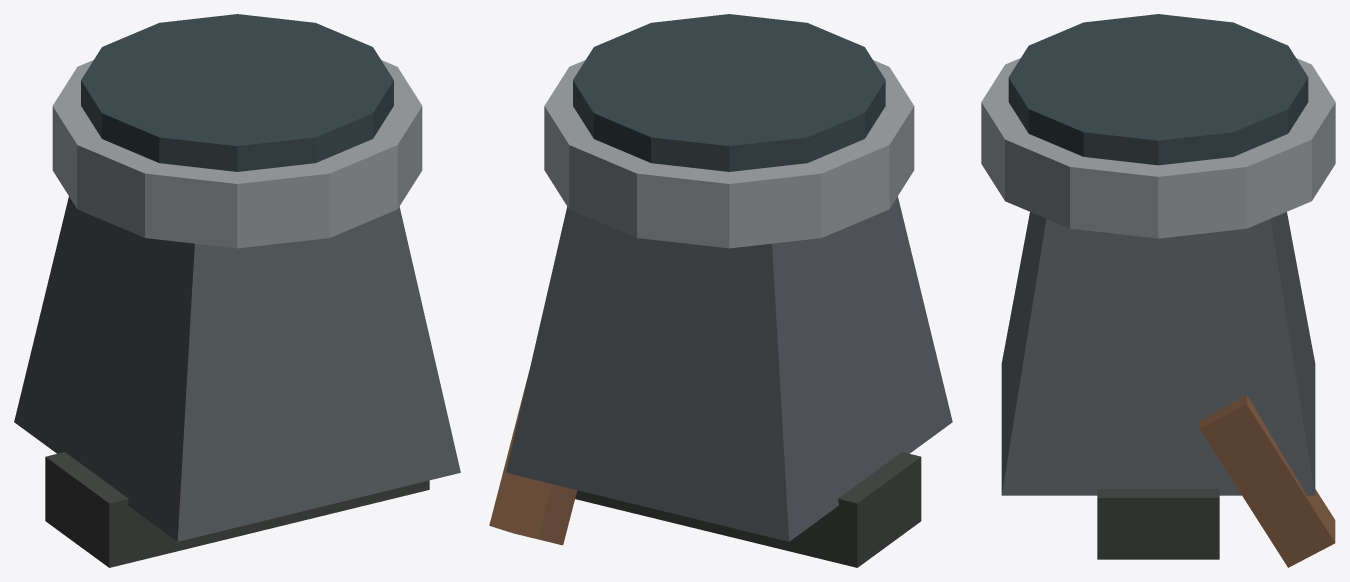
Rendered from item_good_optics.glb.
The picture shows the model from 3 angles, left to right: view 1: azimuth 30°, elevation 25°; view 2: azimuth 150°, elevation 25°; view 3: azimuth 270°, elevation 25°; orthographic projection. The views are drawn at different scales.
Visible parts, largest first — view 1: housing, lens, lens_ring, mount; view 2: housing, lens, lens_ring, mount, cable; view 3: housing, lens, lens_ring, cable, mount.
Boxes of the visible parts, left/top/right/bottom form: housing: left=14, top=196, right=460, bottom=541; lens: left=81, top=14, right=393, bottom=171; lens_ring: left=52, top=60, right=422, bottom=248; mount: left=45, top=452, right=429, bottom=567; housing: left=506, top=196, right=952, bottom=541; lens: left=573, top=14, right=885, bottom=171; lens_ring: left=544, top=60, right=914, bottom=248; mount: left=575, top=452, right=921, bottom=567; cable: left=489, top=371, right=577, bottom=545; housing: left=1001, top=212, right=1315, bottom=495; lens: left=1008, top=14, right=1308, bottom=165; lens_ring: left=981, top=58, right=1335, bottom=238; cable: left=1199, top=394, right=1335, bottom=567; mount: left=1097, top=489, right=1219, bottom=559.
Bounding box in the file's own units: 0.52 × 0.6826 × 0.52.
